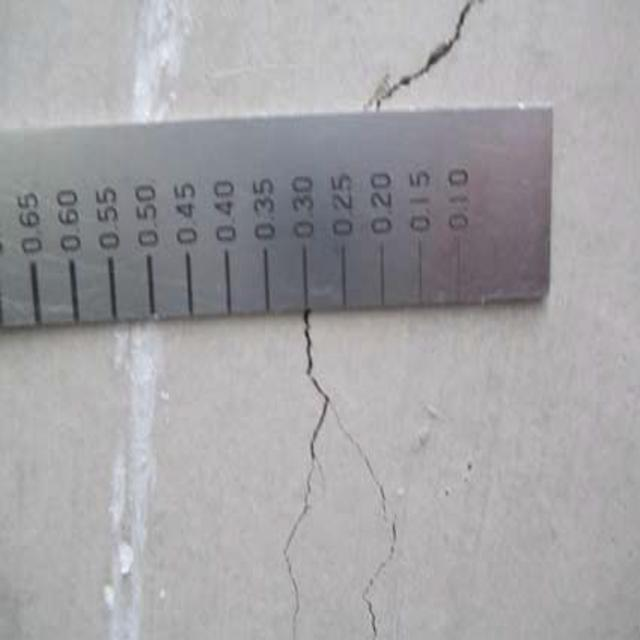crack: (278, 327, 403, 637), (359, 4, 500, 116)
